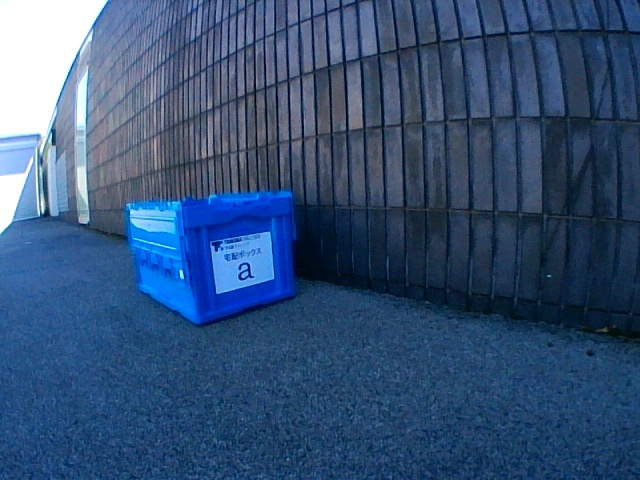blue_box: (125, 191, 295, 324)
tag_a: (225, 248, 262, 281)
